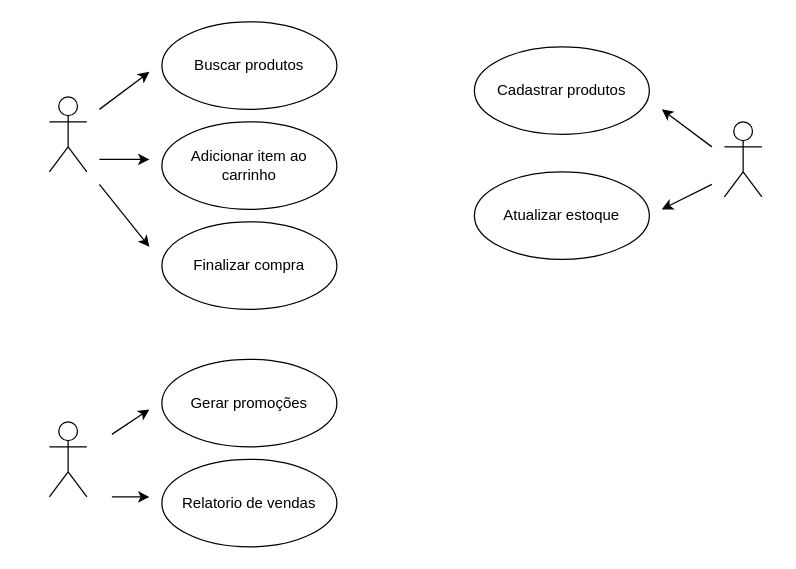
Image size: 796x569. Some labels were removed from this diagram. The shapes that lost their labels are listed below. From the top down, each one's box as (x1, y1, x2, y2) in pixels, then its label:
(48, 96, 87, 172): Cliente
(723, 121, 762, 197): Vendedor
(48, 421, 87, 497): Administrador
